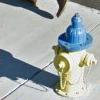Hydrant: (44, 10, 100, 100)
